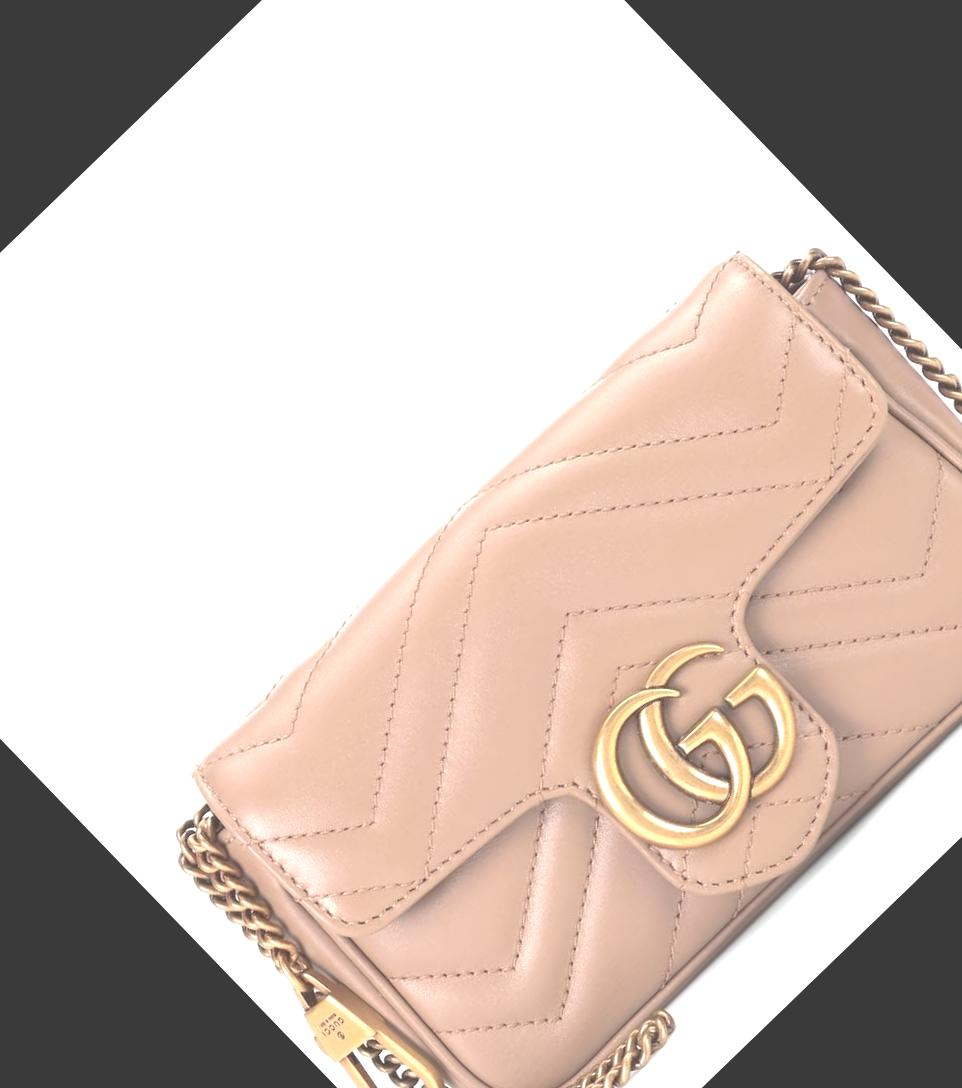GUCCI: (558, 610, 830, 880)
